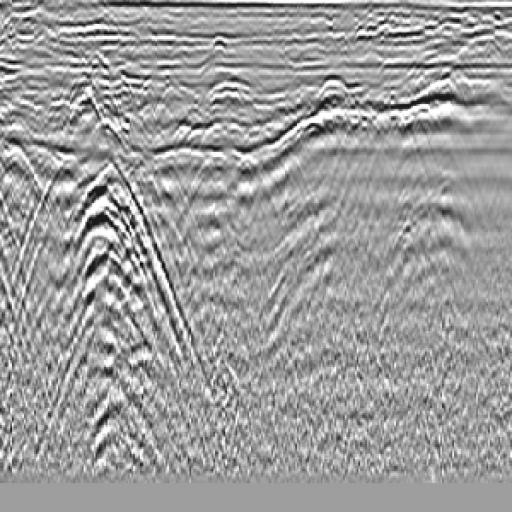metalic: (208, 109, 331, 270)
